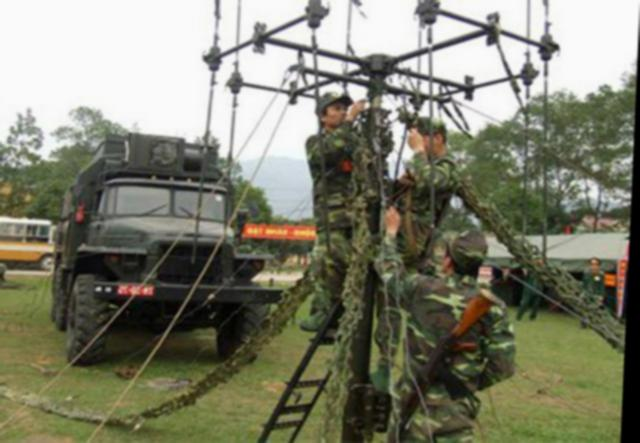License_Plate: (115, 284, 157, 299)
